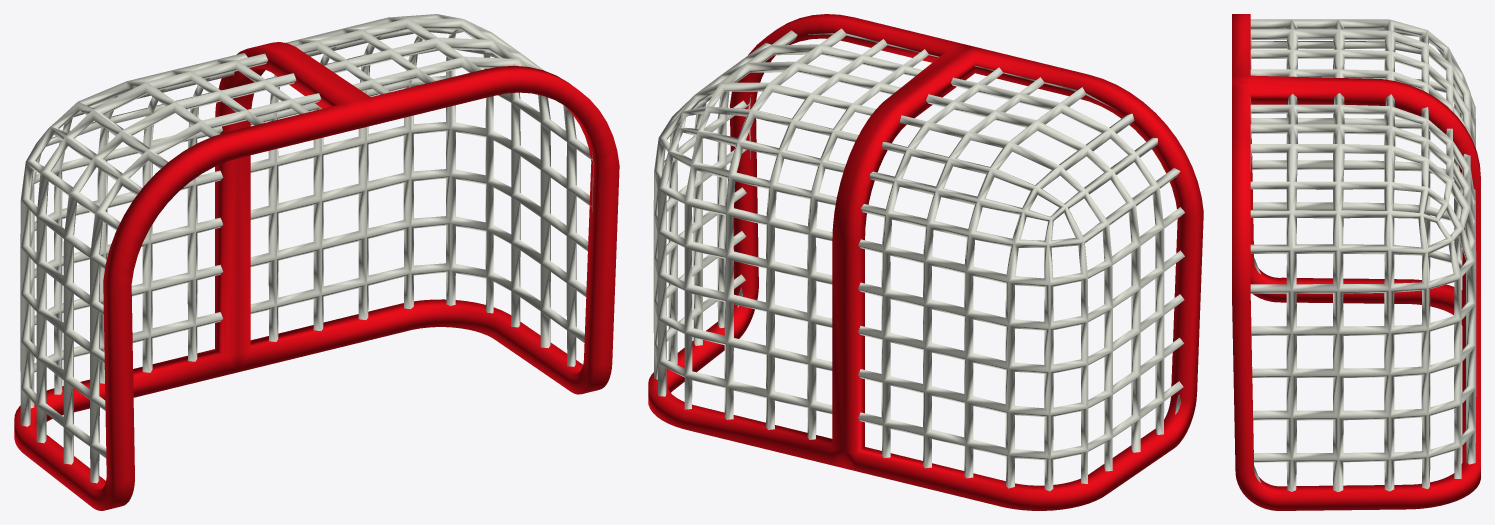
Rendered from Net.dae.
3 views of the same model, side by side, from view 1: azimuth 30°, elevation 25°; view 2: azimuth 150°, elevation 25°; view 3: azimuth 270°, elevation 25° (orthographic). The views are drawn at different scales.
Parts seen in each view (by area): view 1: Net, Rim; view 2: Net, Rim; view 3: Net, Rim.
Boxes of the visible parts, bbox=[...] form: Net: bbox=[20, 14, 593, 483]; Rim: bbox=[14, 42, 619, 510]; Net: bbox=[653, 28, 1184, 491]; Rim: bbox=[648, 14, 1203, 510]; Net: bbox=[1250, 19, 1476, 492]; Rim: bbox=[1232, 14, 1480, 510].
Bounding box in the file's own units: 13.16 × 6.26 × 8.9.
